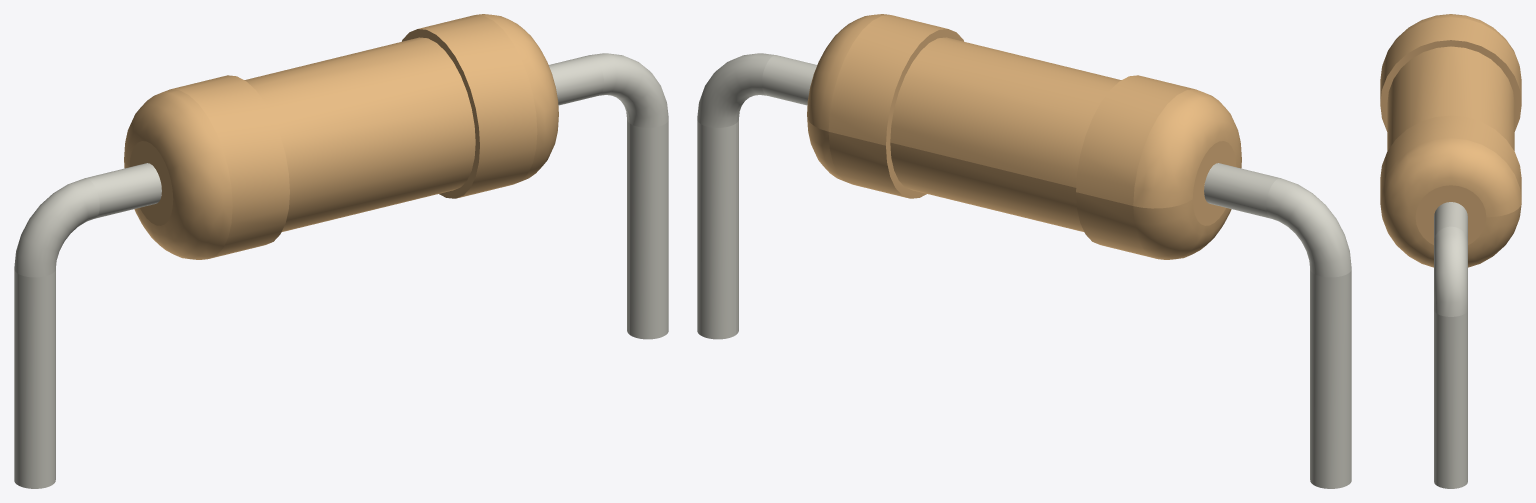
The model's file is kc-r_axial_din0207_l6.3mm_d2.5mm_p10.16mm_horizontal.glb.
3 renders of one model, left to right at view 1: azimuth 30°, elevation 25°; view 2: azimuth 150°, elevation 25°; view 3: azimuth 270°, elevation 25°, orthographic. The views are drawn at different scales.
Visible parts, largest first — view 1: 0.75_0.5_0.16666666666666666_0.9, 0.6666666666666666_0.6666666666666666_0.5833333333333334_0.8; view 2: 0.75_0.5_0.16666666666666666_0.9, 0.6666666666666666_0.6666666666666666_0.5833333333333334_0.8; view 3: 0.75_0.5_0.16666666666666666_0.9, 0.6666666666666666_0.6666666666666666_0.5833333333333334_0.8.
Boxes of the visible parts, box(x1,y1,x2,y2) form: 0.75_0.5_0.16666666666666666_0.9: box(124, 14, 558, 259); 0.6666666666666666_0.6666666666666666_0.5833333333333334_0.8: box(14, 53, 668, 488); 0.75_0.5_0.16666666666666666_0.9: box(807, 14, 1241, 259); 0.6666666666666666_0.6666666666666666_0.5833333333333334_0.8: box(697, 53, 1351, 488); 0.75_0.5_0.16666666666666666_0.9: box(1380, 14, 1521, 267); 0.6666666666666666_0.6666666666666666_0.5833333333333334_0.8: box(1434, 202, 1467, 488).
Bounding box in the file's own units: 1.08 × 0.55 × 0.25.
